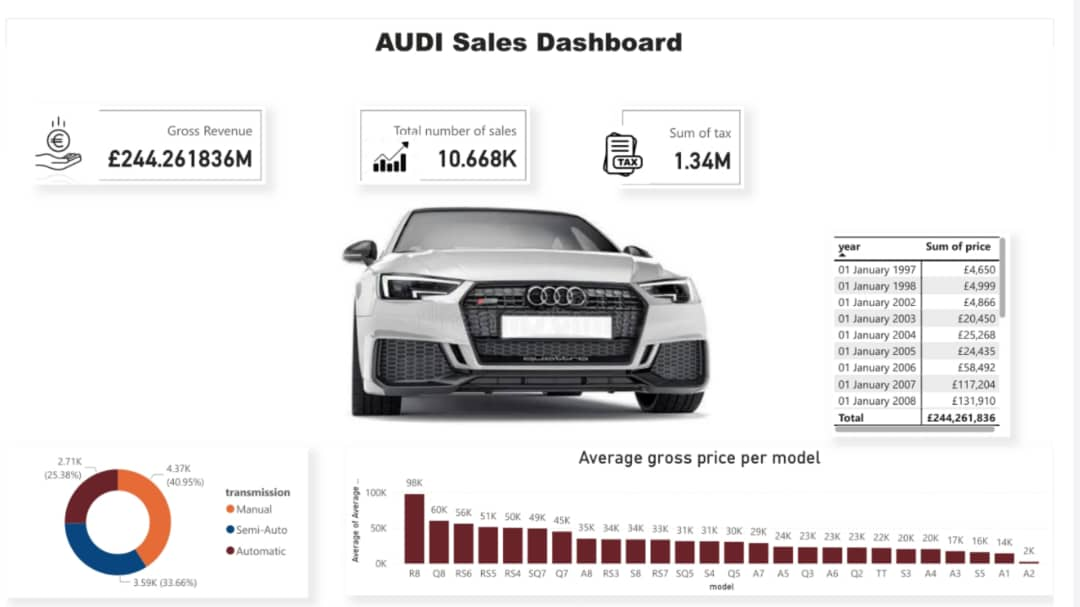

What the dashboard file says about the page in this screenshot:
{"tool":"powerbi","page":{"name":"Duplicate of Duplicate of Duplicate of Page 1","canvas":[1280,720],"ordinal":3},"visuals":[{"type":"clusteredColumnChart","fields":{"Category":["audi.model"],"Y":["Avg(audi.Average price 1)"]},"box":[393.1,748.3,886.2,151.7],"z":0},{"type":"clusteredColumnChart","title":"Average gross price per model","fields":{"Category":["audi.model"],"Y":["Avg(audi.Average price 1)"]},"box":[415.7,524.3,862.9,181.4],"z":1000},{"type":"cardVisual","fields":{"Data":["CountNonNull(audi.price)"]},"box":[428.3,106.7,211.7,96.7],"z":2000},{"type":"cardVisual","fields":{"Data":["Sum(audi.price)"]},"box":[35,106.7,281.7,96.7],"z":3000},{"type":"donutChart","fields":{"Category":["audi.transmission"],"Y":["CountNonNull(audi.transmission)"]},"box":[0,524.3,368.6,184.3],"z":4000},{"type":"image","box":[416.7,136.7,105,66.7],"z":5000},{"type":"image","box":[0,100,126.7,108.3],"z":6000},{"type":"shape","title":"AUDI Sales Dashboard","box":[153.3,5,971.7,68.3],"z":8000},{"type":"cardVisual","fields":{"Data":["Sum(audi.tax)"]},"box":[748.3,106.7,153.3,101.7],"z":9000},{"type":"pivotTable","fields":{"Rows":["audi.year"],"Values":["Sum(audi.price)"]},"box":[1006.7,261.7,220,250],"z":10000},{"type":"image","box":[710,117.1,81.4,98.6],"z":11000}]}

Visuals, with their boxes in screenshot pixels (x1, y1, x2, y2), scaled from the page's 1280x720 canvas onto the 1080x607 screenshot:
"Average gross price per model" clusteredColumnChart: bbox=(351, 442, 1079, 595)
cardVisual - CountNonNull(audi.price): bbox=(361, 90, 540, 171)
cardVisual - Sum(audi.price): bbox=(30, 90, 267, 171)
donutChart - audi.transmission x CountNonNull(audi.transmission): bbox=(0, 442, 311, 597)
image: bbox=(352, 115, 440, 171)
image: bbox=(0, 84, 107, 176)
"AUDI Sales Dashboard" shape: bbox=(129, 4, 949, 62)
cardVisual - Sum(audi.tax): bbox=(631, 90, 761, 176)
pivotTable - audi.year x Sum(audi.price): bbox=(849, 221, 1035, 431)
image: bbox=(599, 99, 668, 182)
